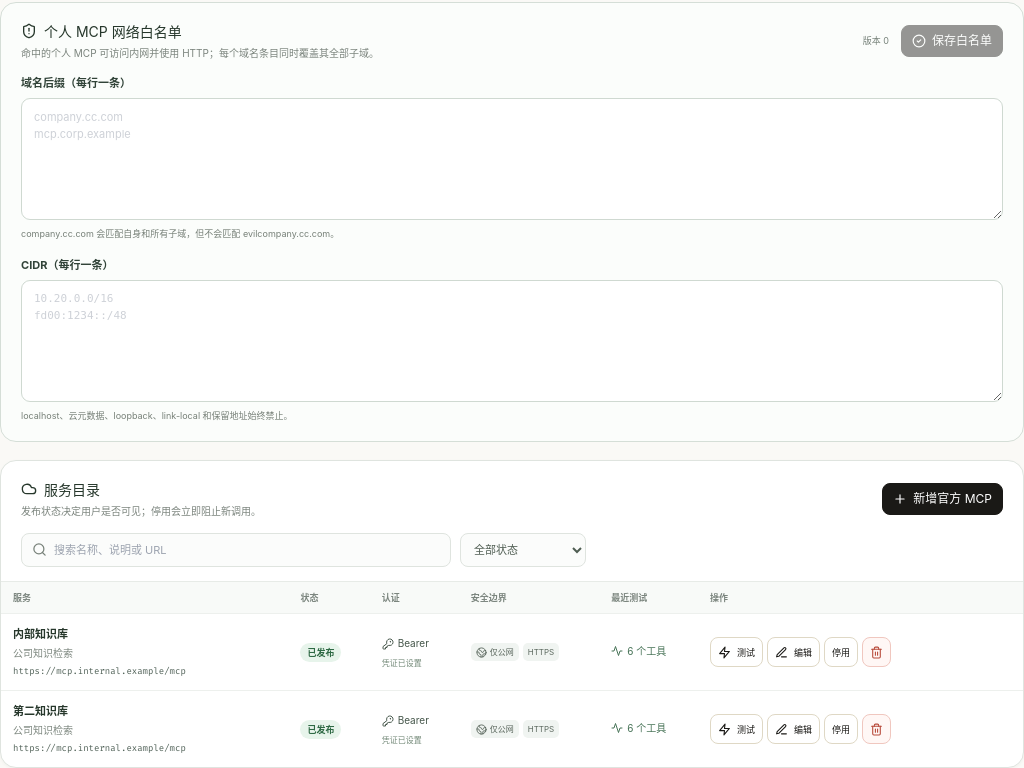
Test: AdminMcpCatalogPanel › 并发操作刷新时只接收最后一次列表响应
(page scrolled)
Check: the text "第二知识库" is shown, box [13,704,68,718]
Click the button with aria-label "测试 内部知识库".
click(736, 652)  # box [710,637,763,667]
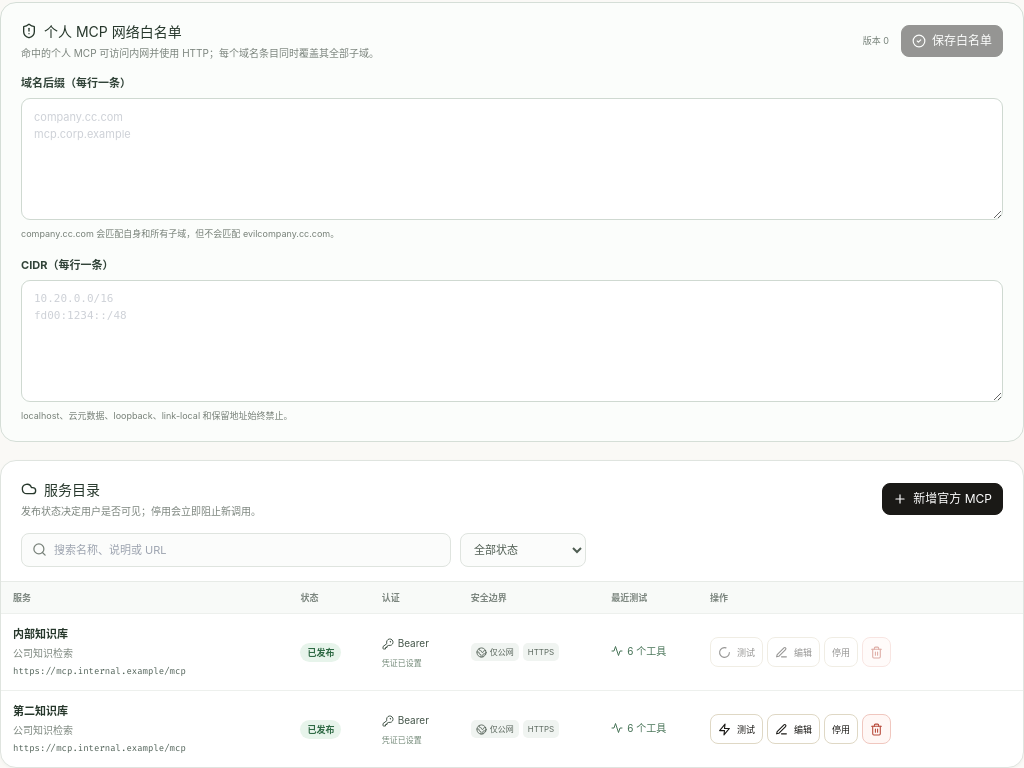
Click the button with aria-label "测试 第二知识库".
click(736, 729)  # box [710,714,763,744]
(page scrolled)
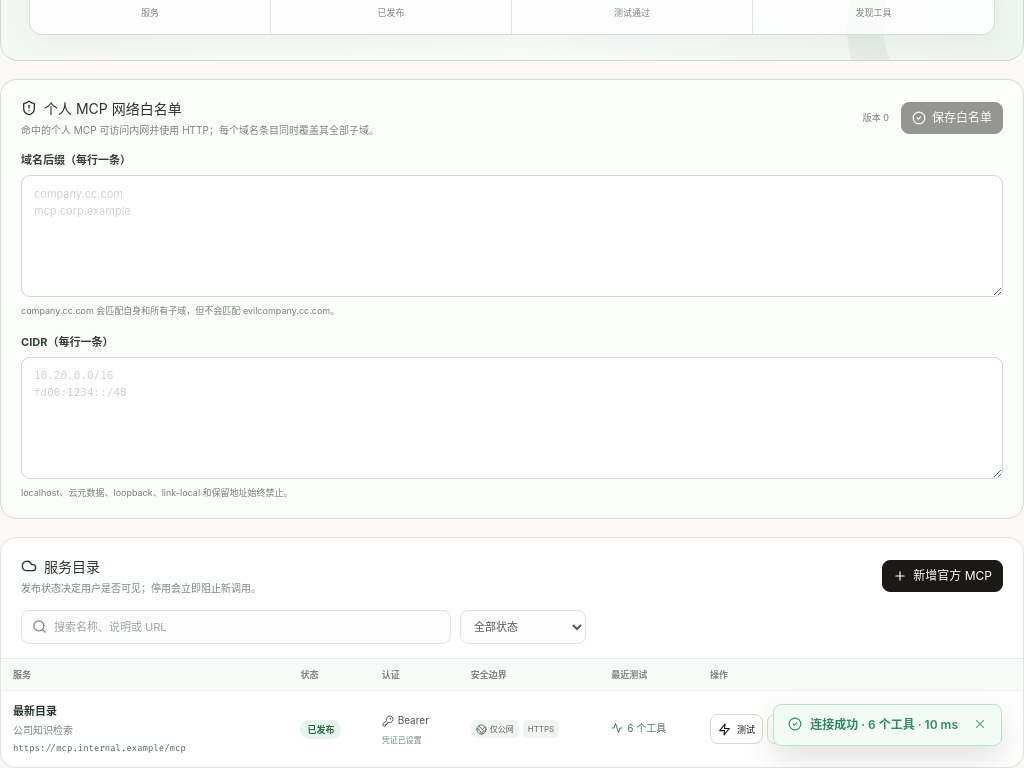
Check: the text "最新目录" is shown, box [13,704,57,718]
